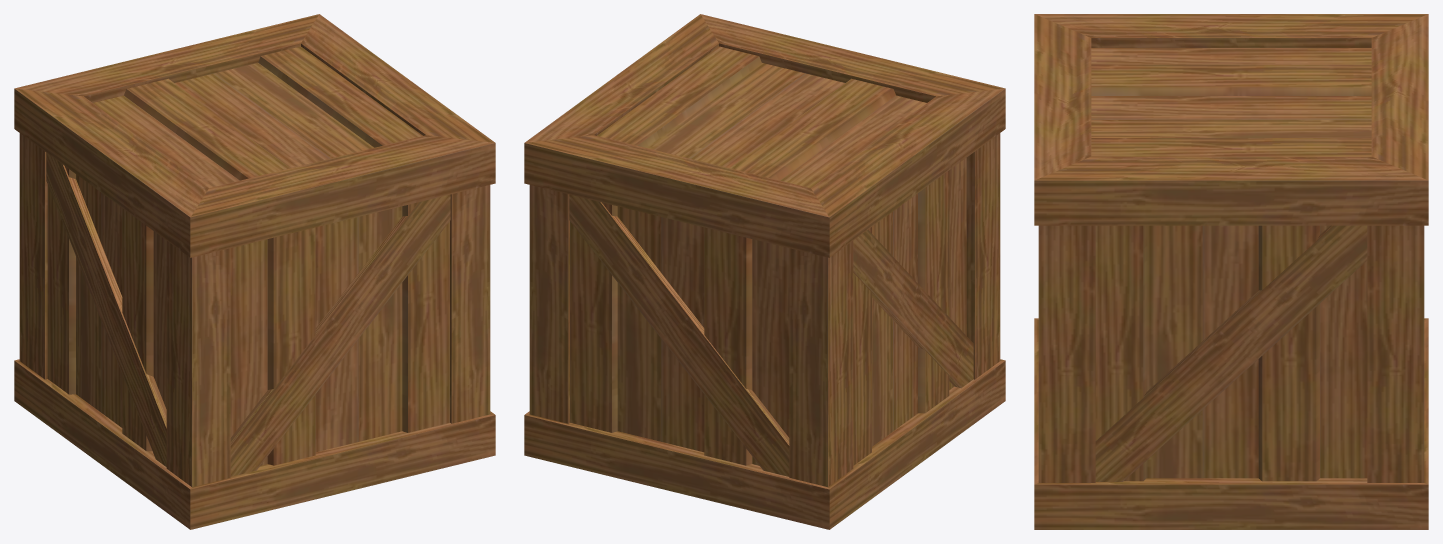
The model's file is Prop_Crate.glb.
3 renders of one model, left to right at view 1: azimuth 30°, elevation 25°; view 2: azimuth 150°, elevation 25°; view 3: azimuth 270°, elevation 25°, orthographic. The views are drawn at different scales.
Visible parts, largest first — view 1: Prop_Crate; view 2: Prop_Crate; view 3: Prop_Crate.
Part boxes in pixels (box(x1,y1,x2,y2)): Prop_Crate: box(14, 14, 495, 529); Prop_Crate: box(524, 14, 1005, 529); Prop_Crate: box(1034, 14, 1428, 529).
Size of the model in its own units: 1.08 by 1.06 by 1.08.
1 material, 1 textured.
